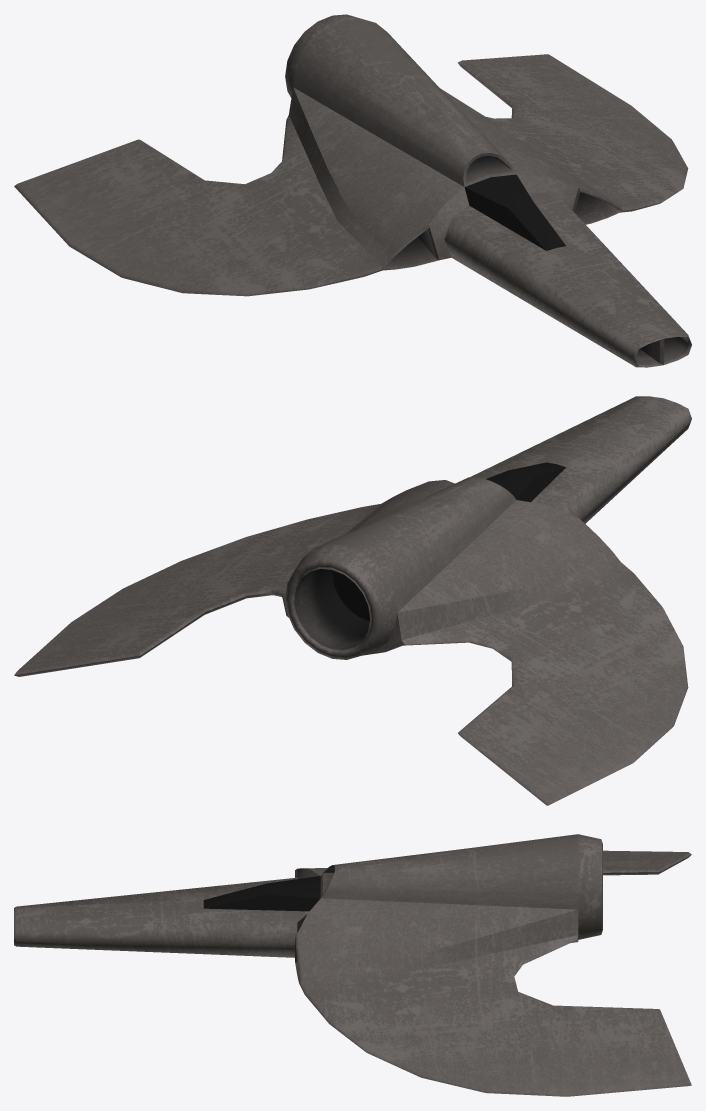
File: ship_enemy_1.fbx
3 renders of one model, top to bottom at view 1: azimuth 30°, elevation 25°; view 2: azimuth 150°, elevation 25°; view 3: azimuth 270°, elevation 25°, orthographic. The views are drawn at different scales.
Visible parts, largest first — view 1: polySurface7; view 2: polySurface7; view 3: polySurface7.
Boxes of the visible parts, x1,y1,x2,y2 form: polySurface7: (14,14,691,367); polySurface7: (14,396,691,805); polySurface7: (14,834,691,1096).
Size of the model in its own units: 693 by 182 by 814.
1 material, 1 textured.
